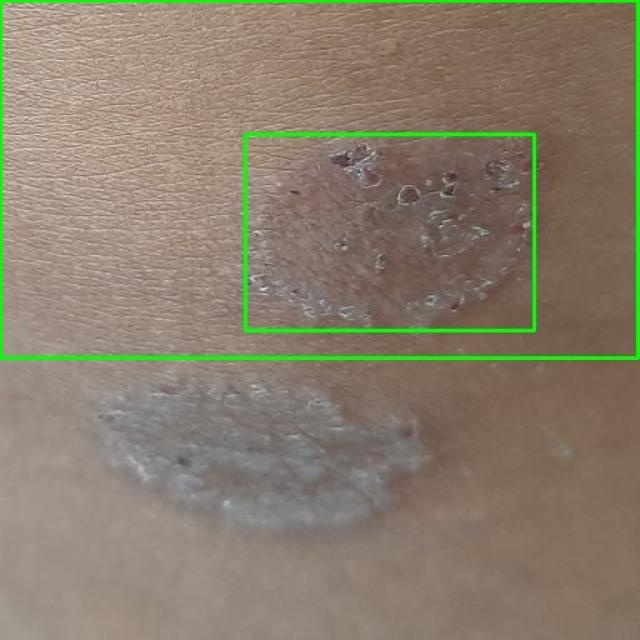Tinea Corporis: (0, 0, 639, 359), (245, 134, 534, 330)
